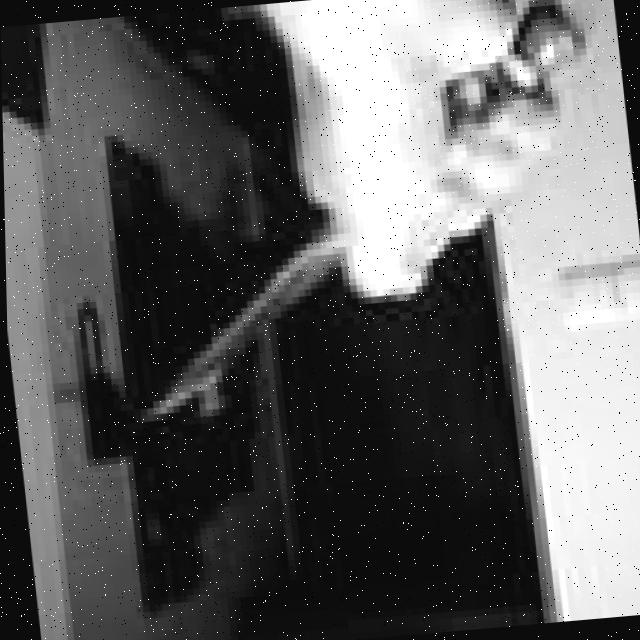knife: (122, 227, 362, 426)
